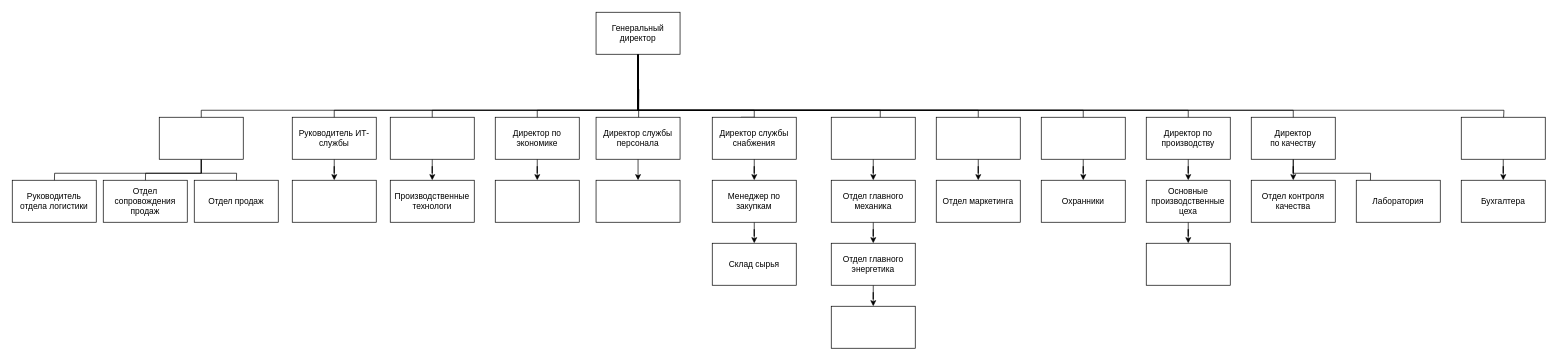
The diagram is 1558 pixels wide and 361 high, and some of its shapes have lost their labels. The centre of each missing label's shape, as x and y in pixels:
Вспомогательные производственные цеха: (1188,264)
Главные бухгалтер: (1503,138)
Главный инженер: (873,138)
Главный технолог: (432,138)
Директор по коммерческим вопросам: (201,138)
ИТ-отдел: (334,201)
Отдел кадров: (637,201)
Руководитель службы маркетинга: (978,138)
Служба охраны: (1083,138)
Специалист по охране труда: (873,327)
Экономисты: (537,201)
